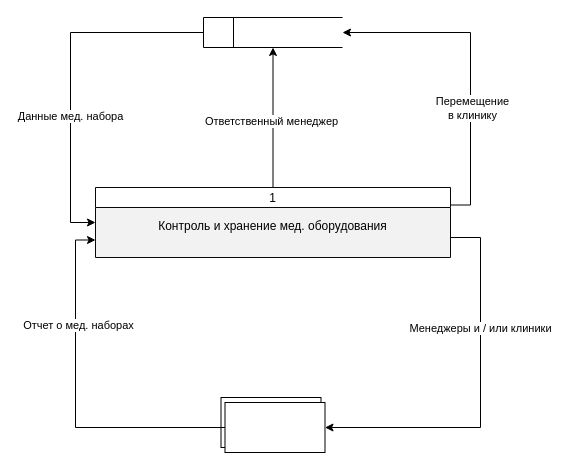
Image size: 568x470. Some labels were removed from this diagram. The centre of each missing label's shape, as x and y in pixels:
"D Мед. наборы" belongs at point (272, 32).
"Система контроля мед. оборудования" belongs at point (274, 427).
